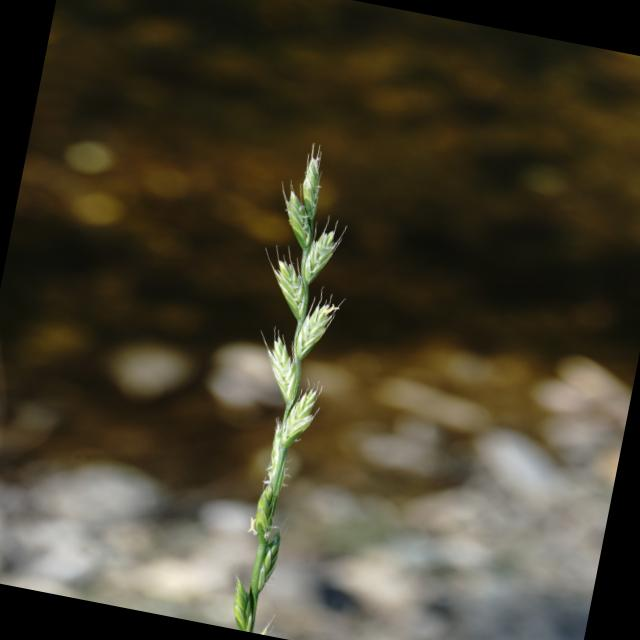Lolium: (190, 137, 377, 637)
